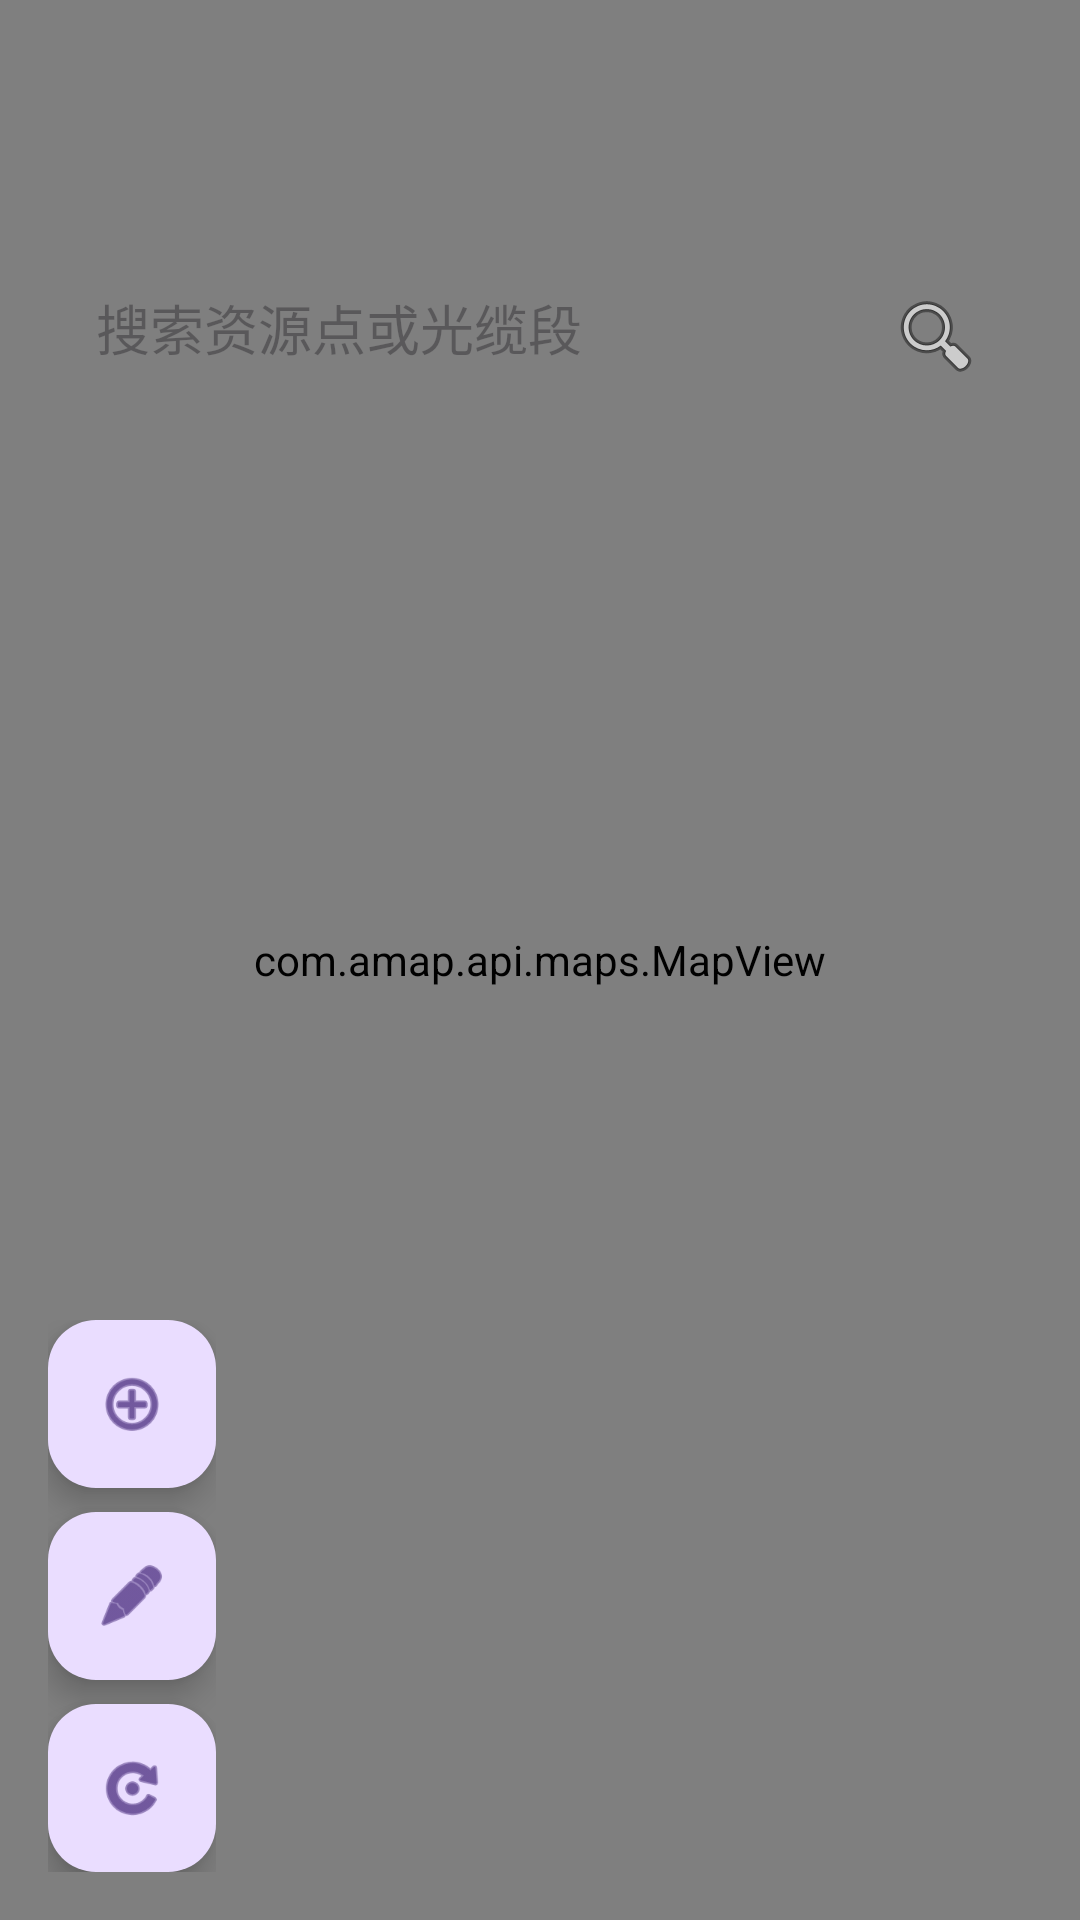

Screen size 1080×1920. Icon name, then its center in pixels as (x=x, y=y):
刷新数据: (x=132, y=1788)
添加资源点: (x=132, y=1404)
绘制光缆段: (x=132, y=1596)
